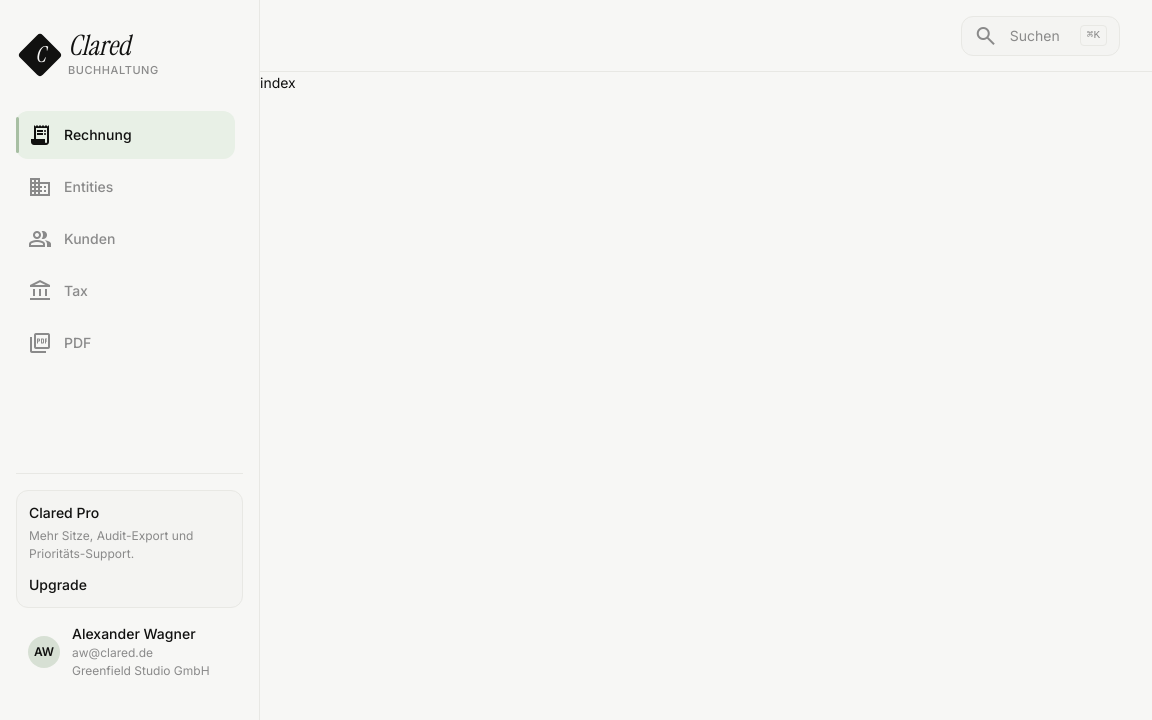
it: AppShell › shows Bald feedback when ⌘K chrome is clicked
Step 1. Click the button with aria-label "Befehlspalette" → coordinates (1040, 36), box [961,16,1120,56]
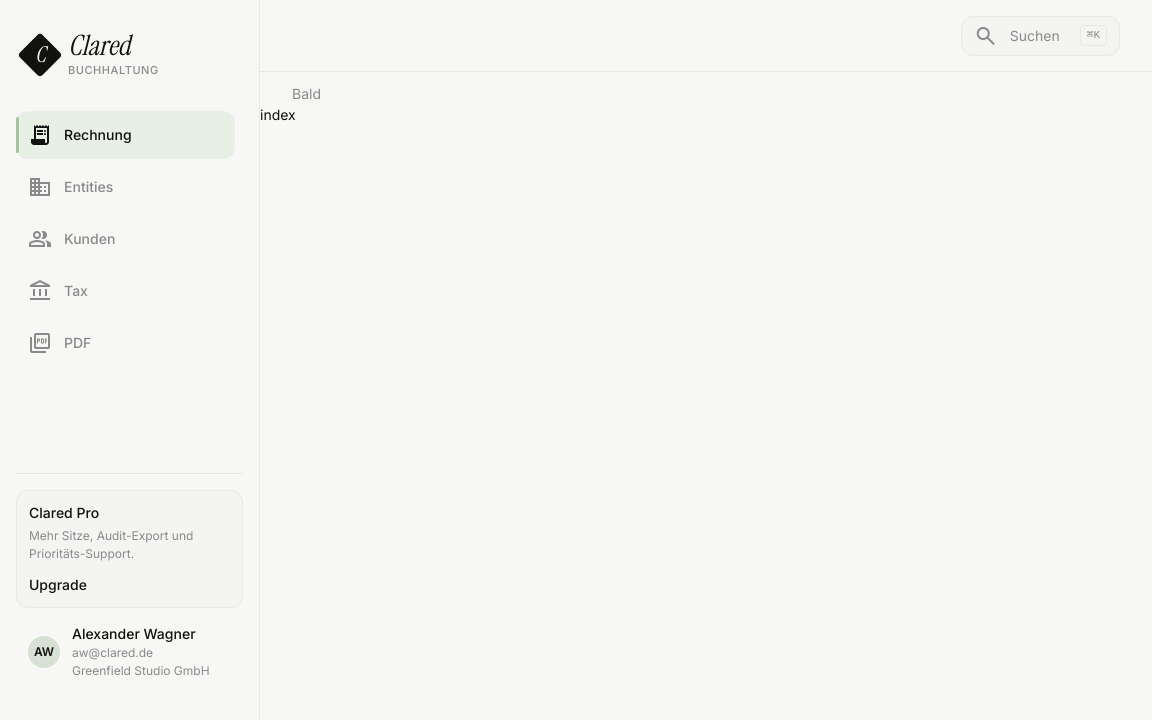
Check: the text "Bald" is shown, box [292,85,321,102]
